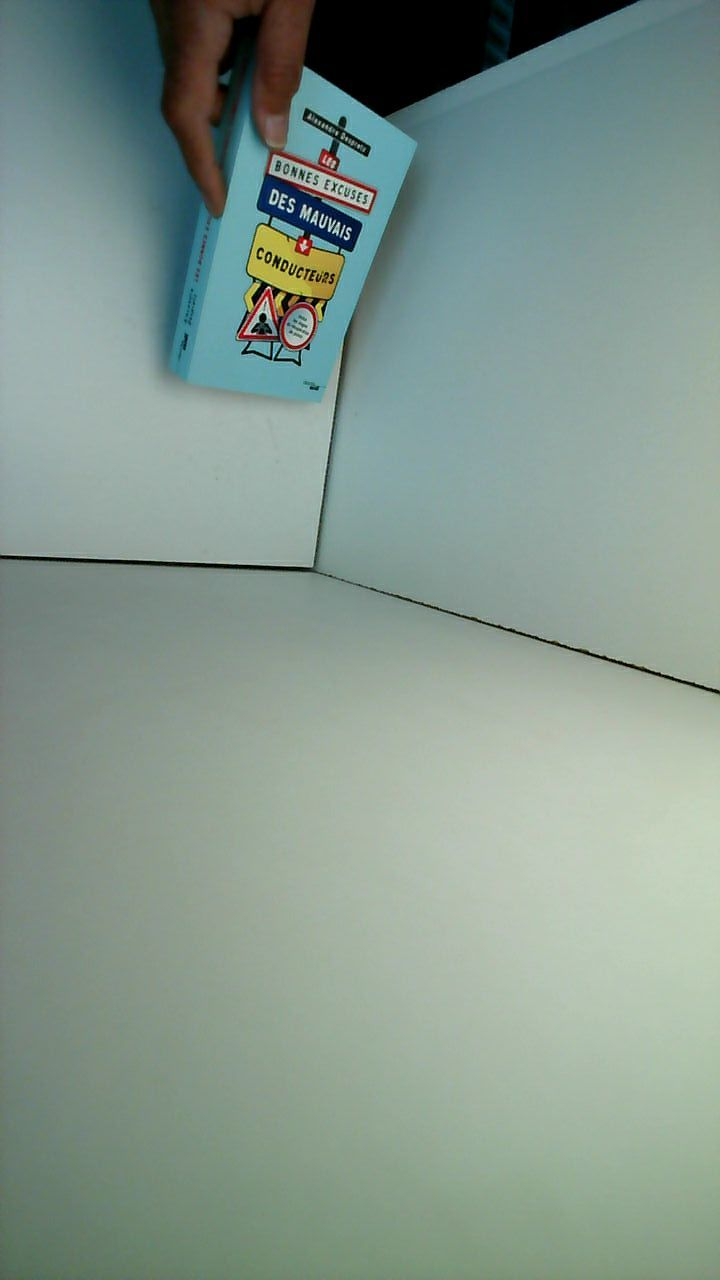book: (139, 37, 443, 429)
